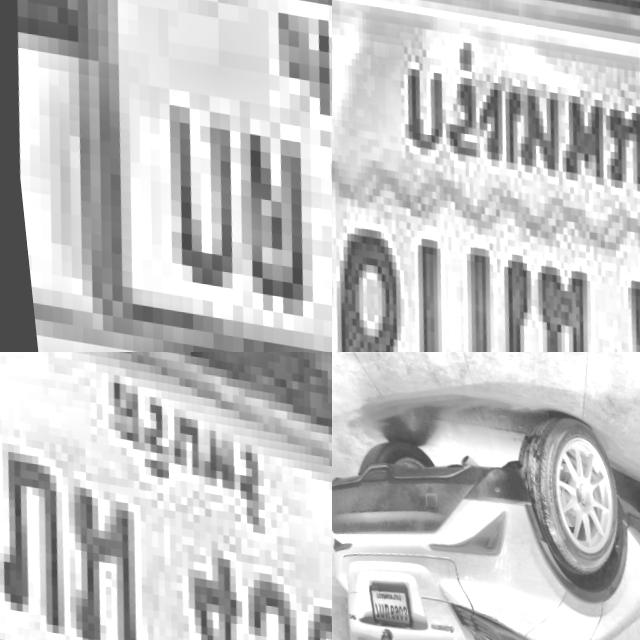license-plate: (0, 0, 332, 352), (332, 0, 640, 352), (0, 352, 332, 640), (347, 569, 419, 631)
